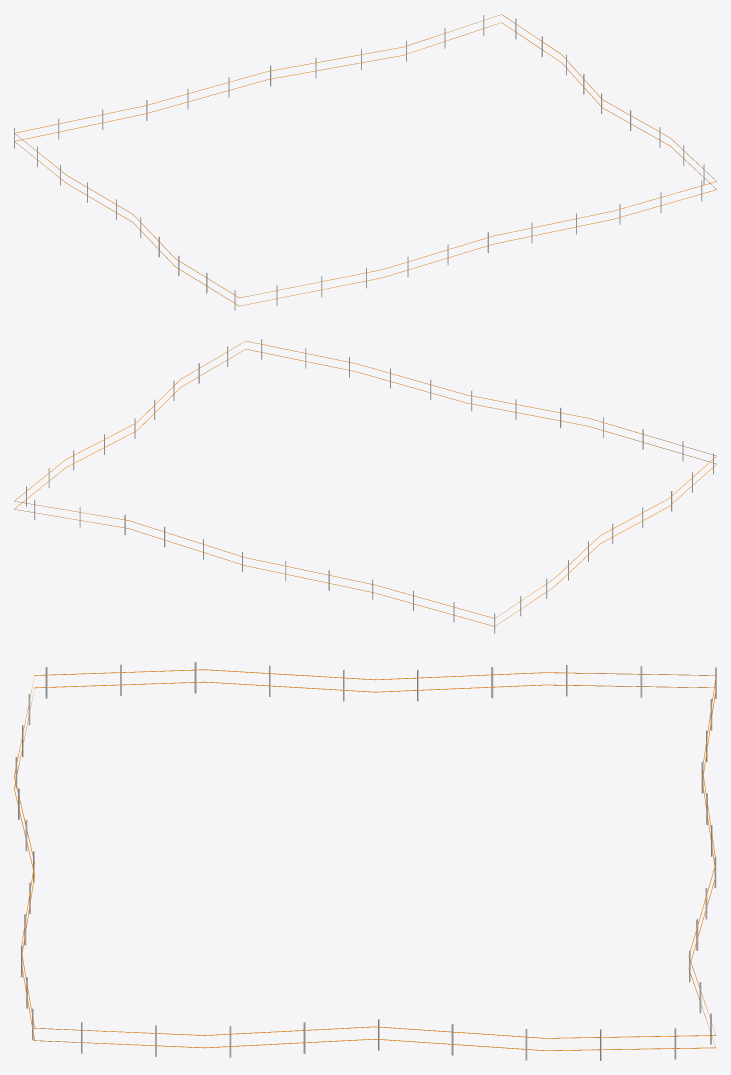
Rendered from electric_fence_alpine.obj.
3 renders of one model, top to bottom at view 1: azimuth 30°, elevation 25°; view 2: azimuth 150°, elevation 25°; view 3: azimuth 270°, elevation 25°, orthographic. The views are drawn at different scales.
Parts seen in each view (by area): view 1: ElectricFence; view 2: ElectricFence; view 3: ElectricFence.
Boxes of the visible parts, x1,y1,x2,y2 form: ElectricFence: (14,14,716,310); ElectricFence: (14,339,716,633); ElectricFence: (14,662,716,1060).
Size of the model in its own units: 25.62 by 1 by 20.63.
